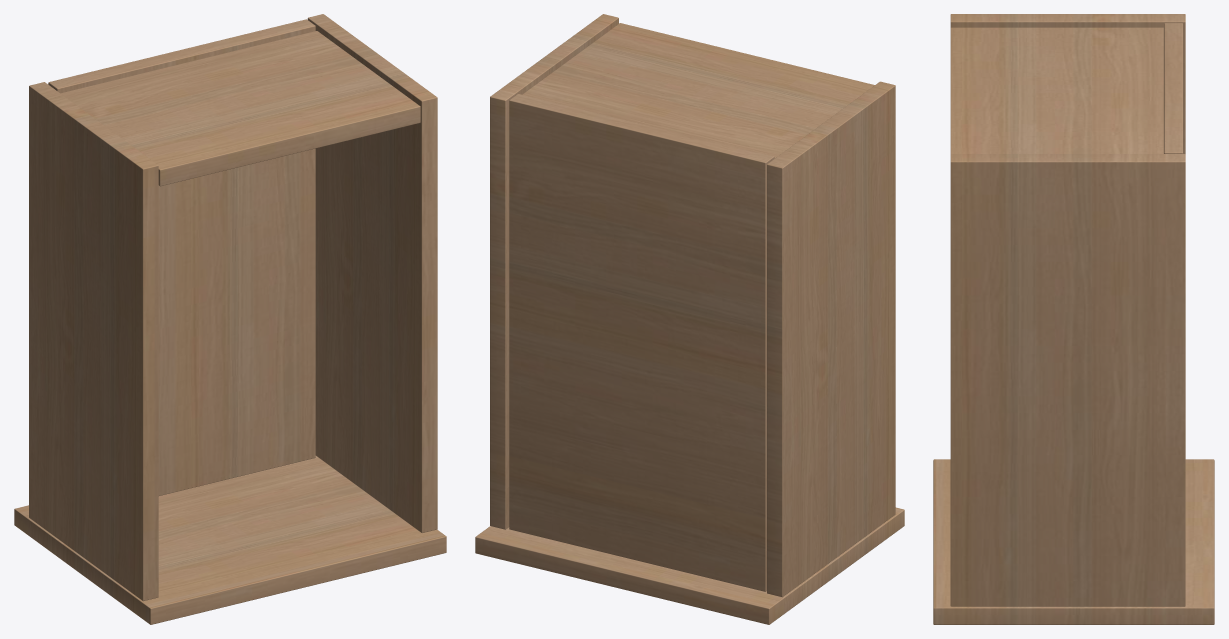
The model's file is SM_Couchtisch_Schublade.obj.
3 renders of one model, left to right at view 1: azimuth 30°, elevation 25°; view 2: azimuth 150°, elevation 25°; view 3: azimuth 270°, elevation 25°, orthographic. The views are drawn at different scales.
Visible parts, largest first — view 1: SM_Couchtisch_Schublade; view 2: SM_Couchtisch_Schublade; view 3: SM_Couchtisch_Schublade.
Part boxes in pixels (<box>): SM_Couchtisch_Schublade: <box>14,14,446,624</box>; SM_Couchtisch_Schublade: <box>475,14,904,624</box>; SM_Couchtisch_Schublade: <box>933,14,1214,624</box>.
Size of the model in its own units: 0.396 by 0.5745 by 0.316.
